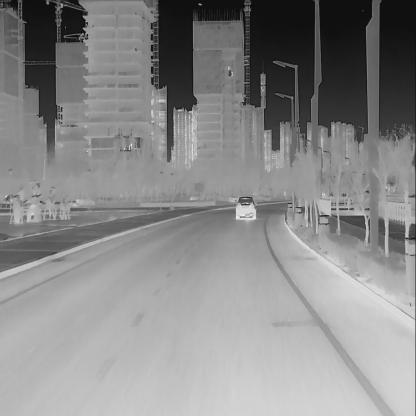car: (234, 195, 257, 220)
